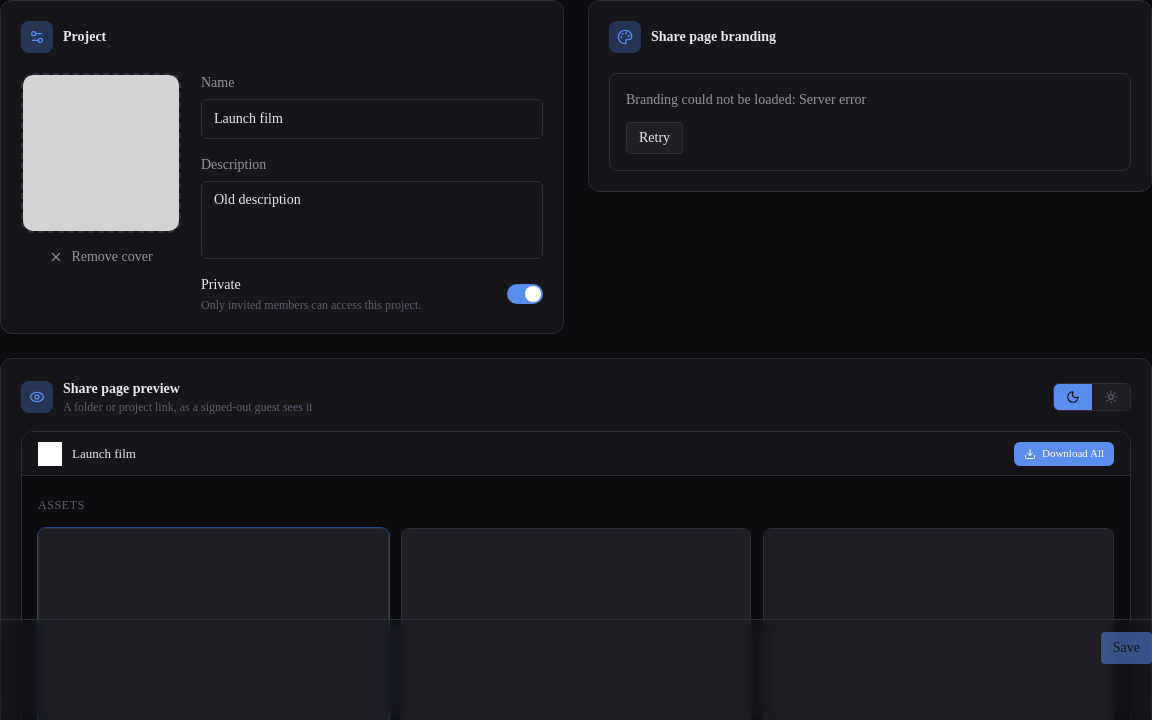
Scenario: when branding cannot be loaded › says so with a Retry, and the project part still saves
Expected: the text "Branding could not be loaded: Server error" is shown, [626, 92, 866, 107]
Replace the text in the field labelled "Name" with "Renamed" at (372, 119), box [201, 99, 543, 139]
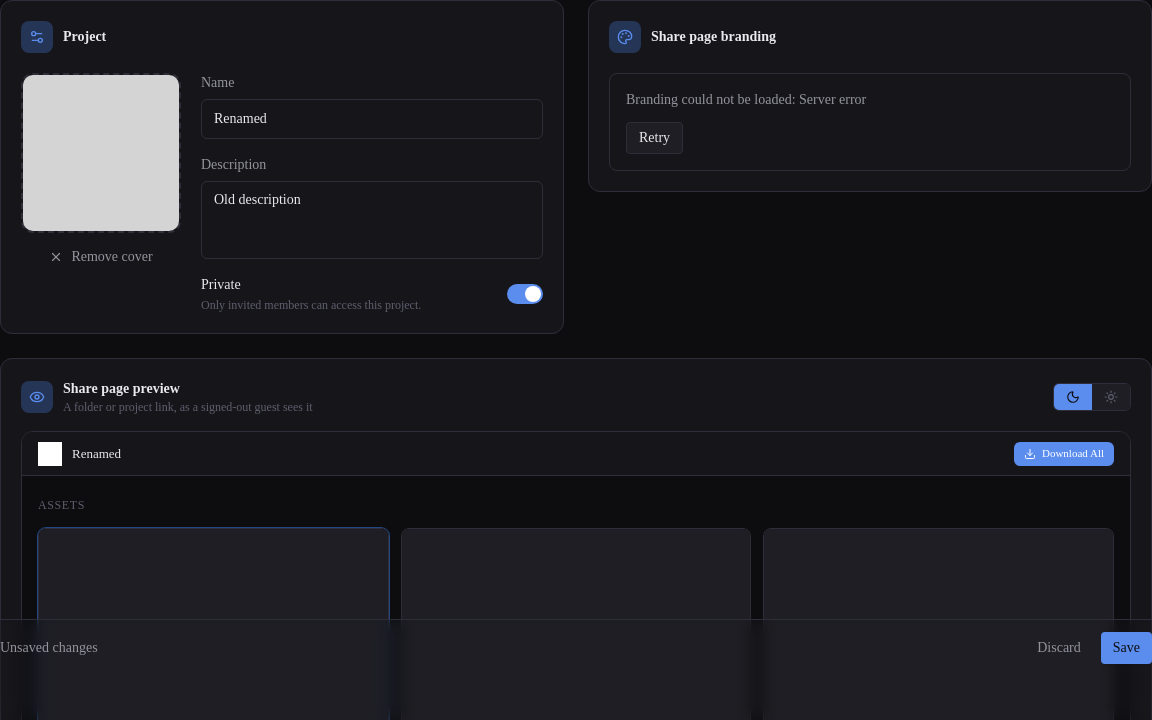
Click the button "Save" at (1126, 648), box [1101, 632, 1151, 664]
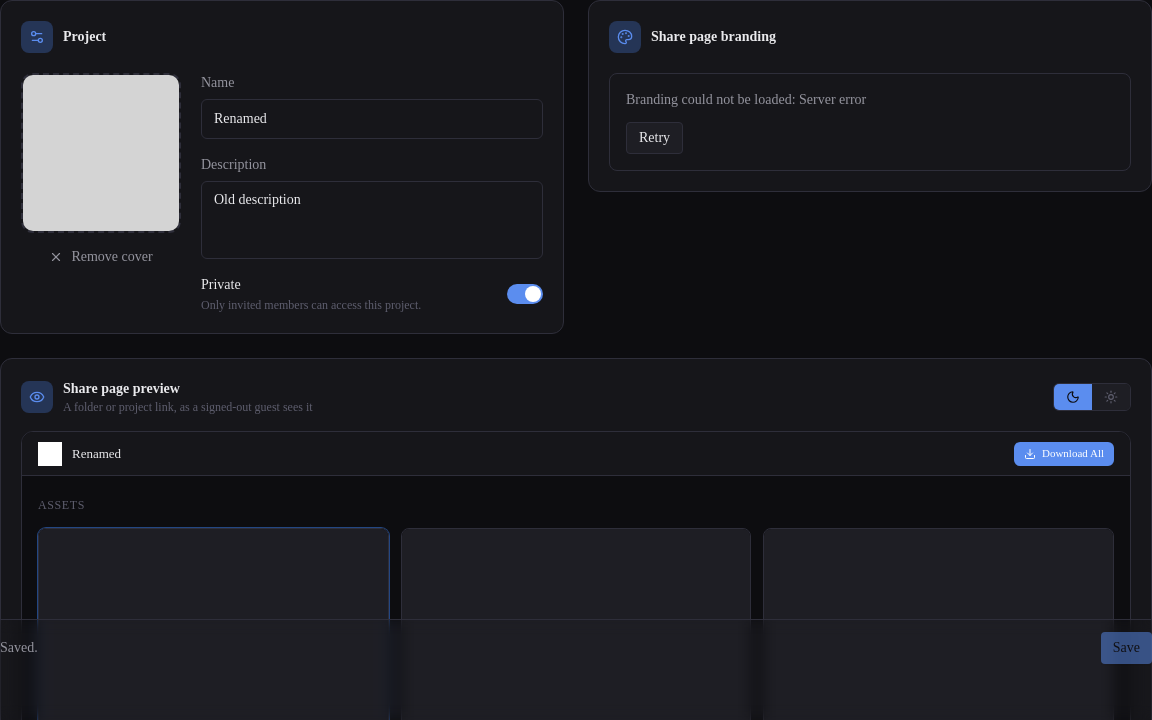
Click the button "Retry" at (655, 138), box [626, 122, 683, 154]
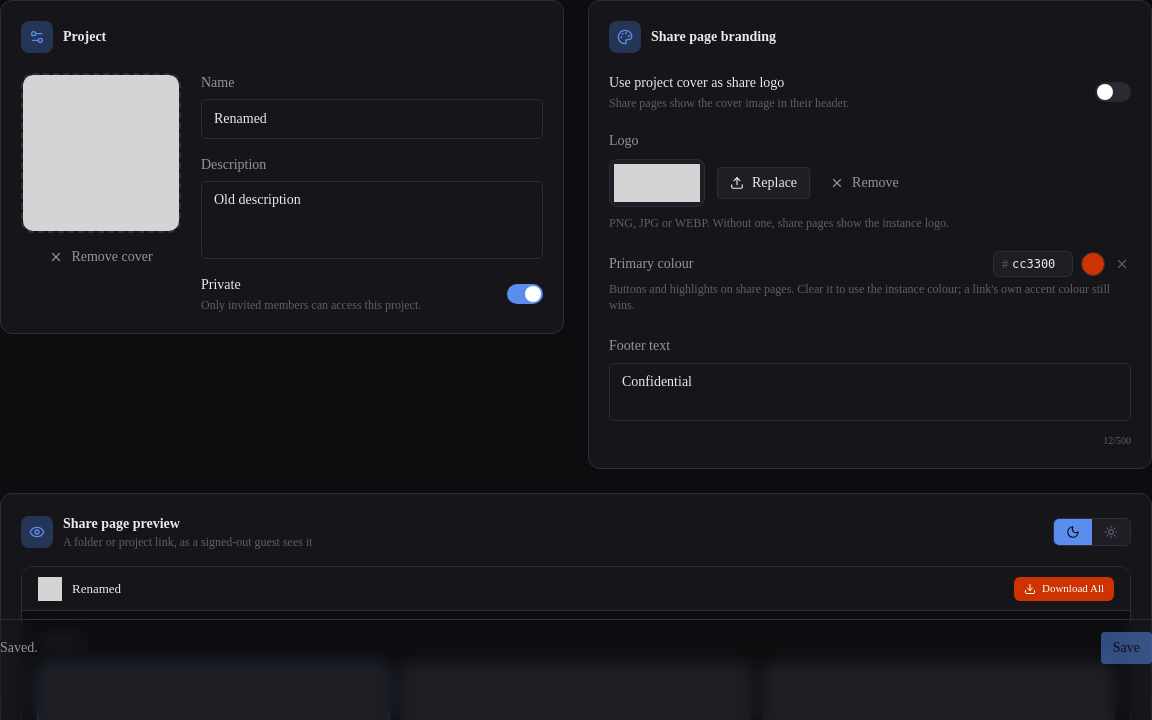
Expected: the field named "Primary colour hex" is shown, [1008, 252, 1072, 276]
